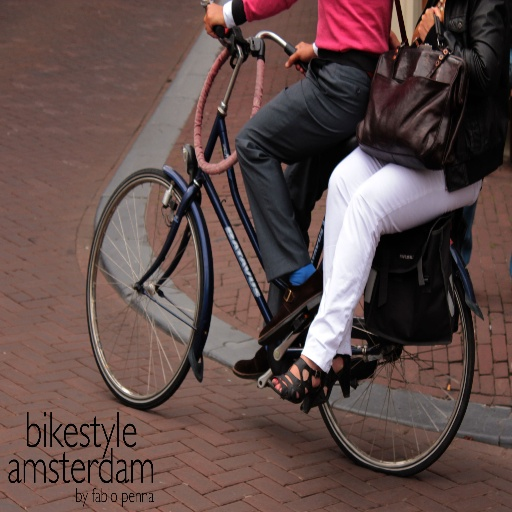hand: (417, 7, 443, 41), (287, 39, 314, 71), (202, 1, 225, 37), (389, 28, 401, 48)
